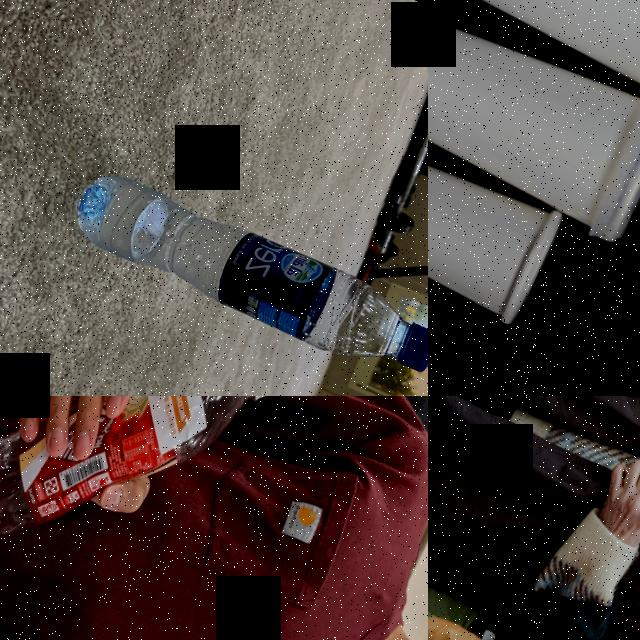bottle: (59, 155, 428, 396), (0, 396, 295, 620)
cup: (428, 0, 640, 256), (428, 0, 640, 154), (428, 117, 569, 333)
